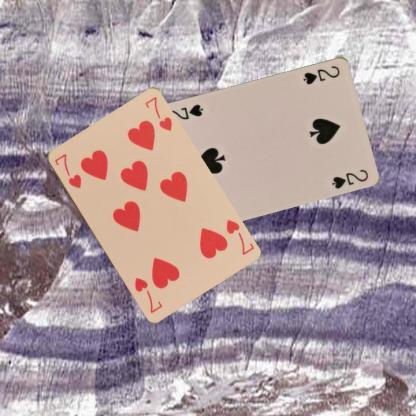2s: (300, 63, 342, 85)
7h: (223, 216, 255, 257), (52, 151, 82, 190)
